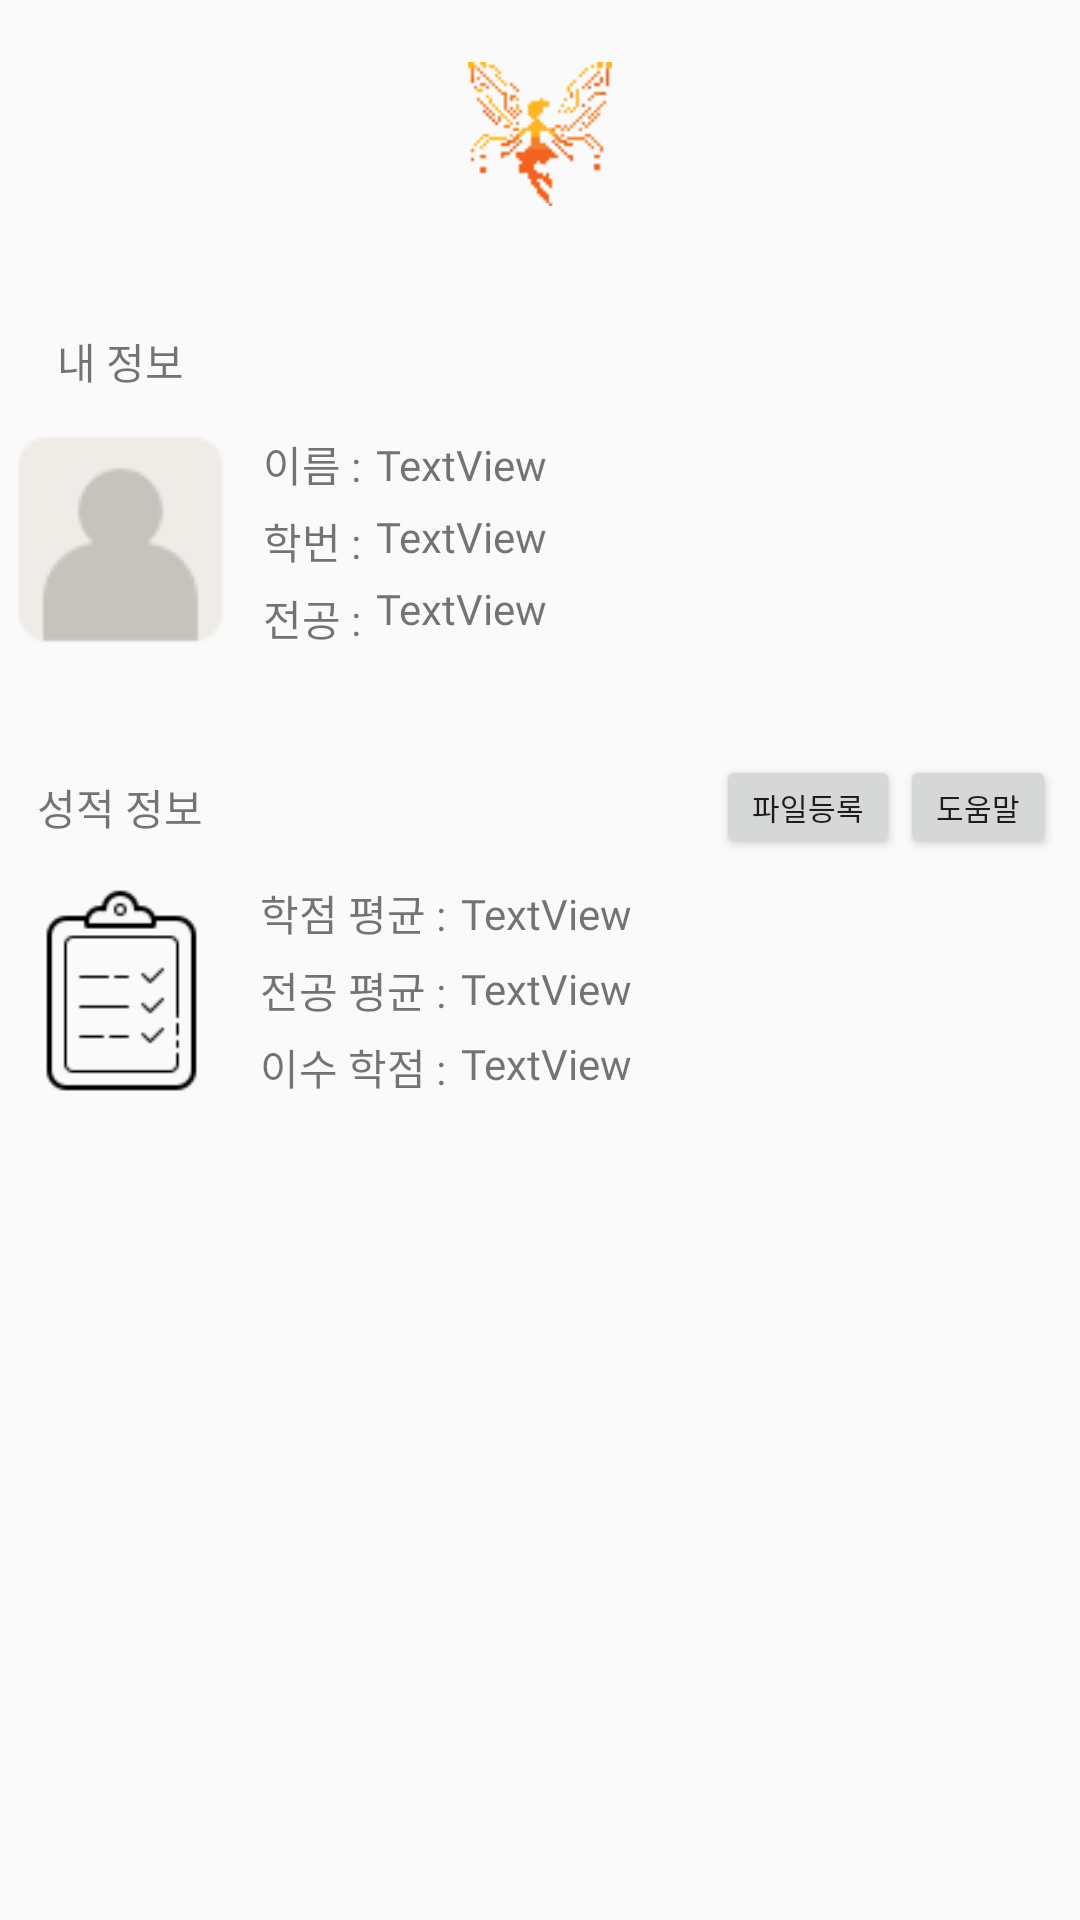

Where icons sit on this 1080x1920 app screen, as (x1, y1, x2, y2):
grade: (46, 890, 197, 1091)
koreatechfairy: (468, 62, 612, 206)
user: (42, 467, 199, 641)
